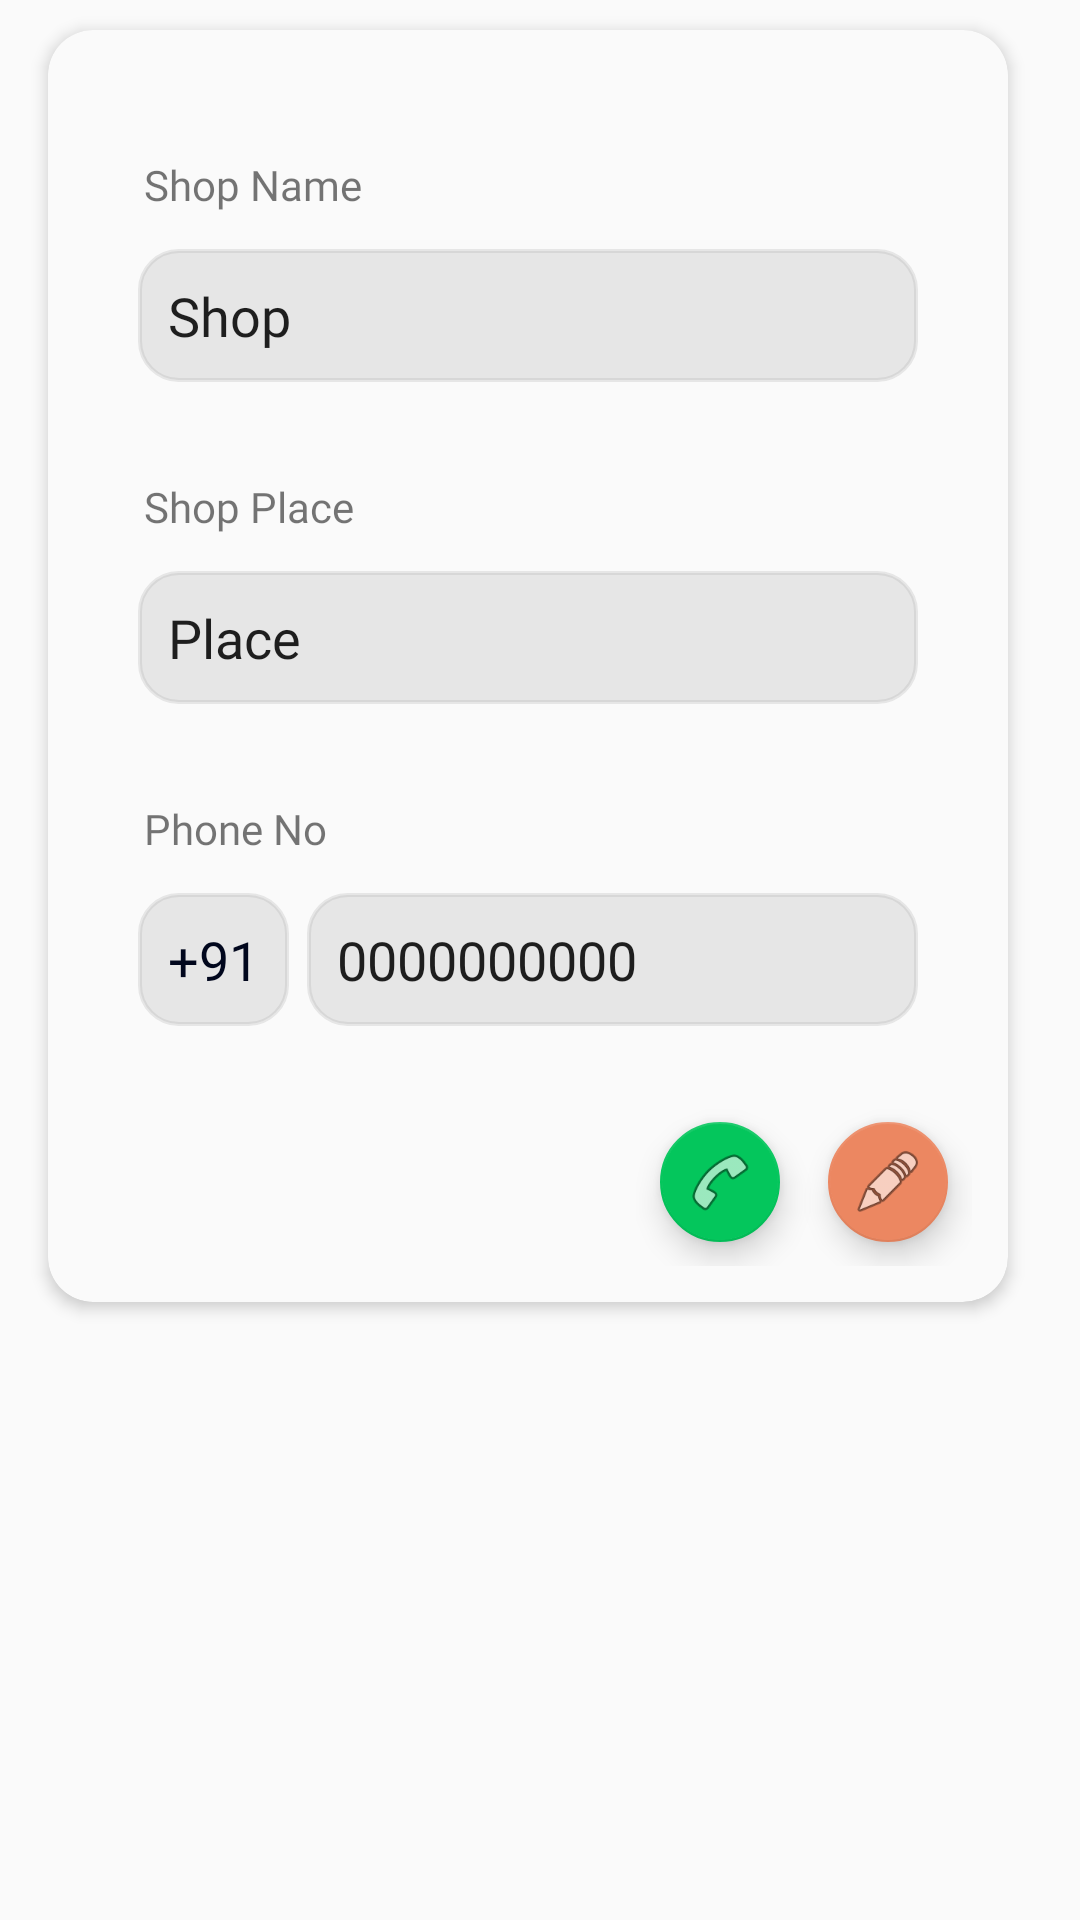

Screen size 1080 x 1920. Icon name, then its box in pixels as (x1, y1, x2, y2):
call: (660, 1122, 780, 1242)
edit: (828, 1122, 948, 1242)
